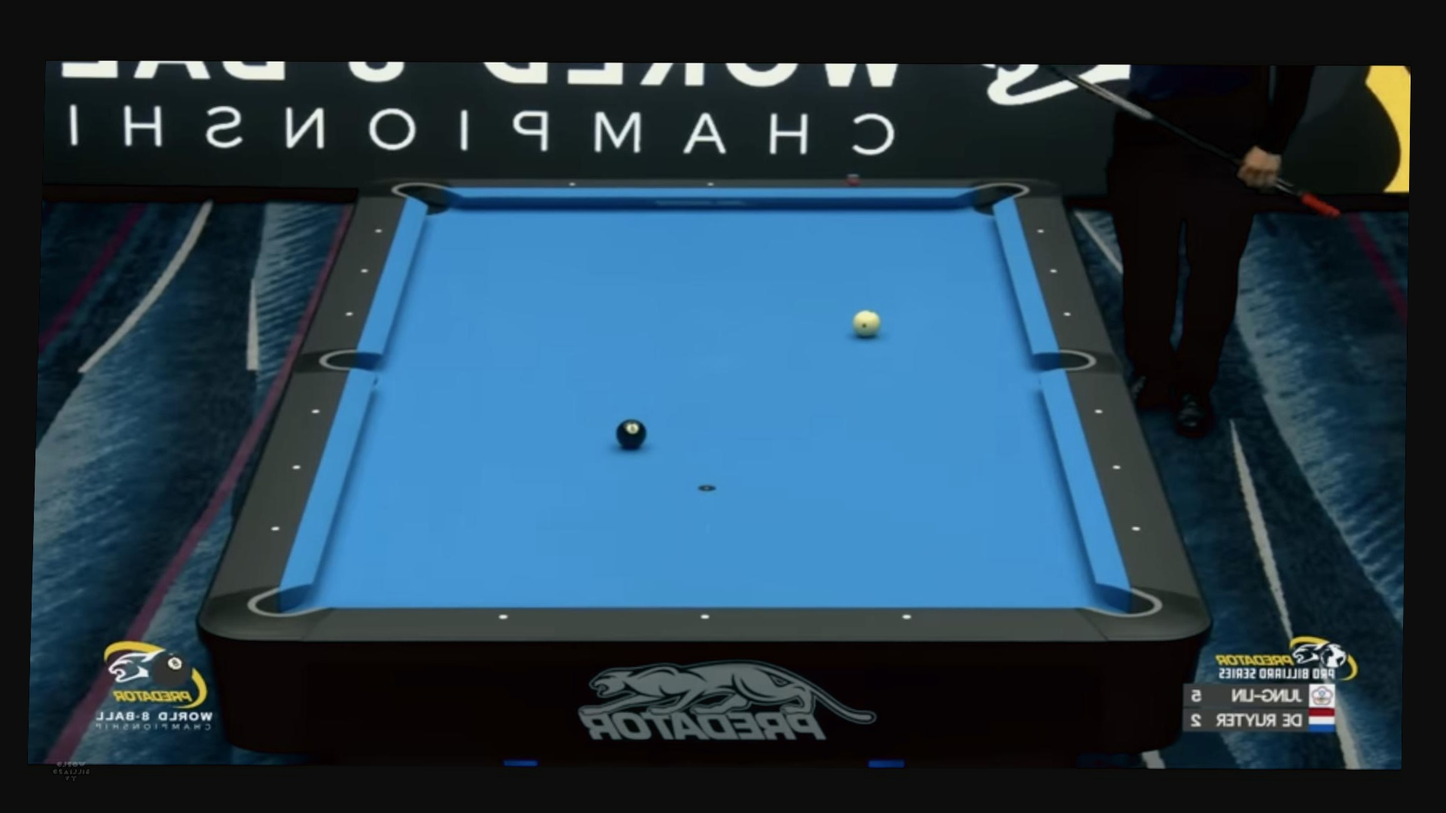Black: (615, 418, 648, 448)
Cue: (852, 309, 881, 338)
Solid: (269, 523, 282, 535), (290, 461, 303, 473), (309, 406, 322, 418), (901, 611, 914, 622), (698, 612, 711, 623), (497, 612, 510, 623), (1110, 462, 1122, 473), (1093, 407, 1104, 418), (1130, 524, 1141, 534), (358, 267, 369, 276), (373, 226, 384, 235), (566, 179, 577, 188), (344, 310, 354, 319), (705, 180, 715, 189), (1063, 310, 1072, 318), (1049, 267, 1058, 275), (1036, 227, 1045, 235)
